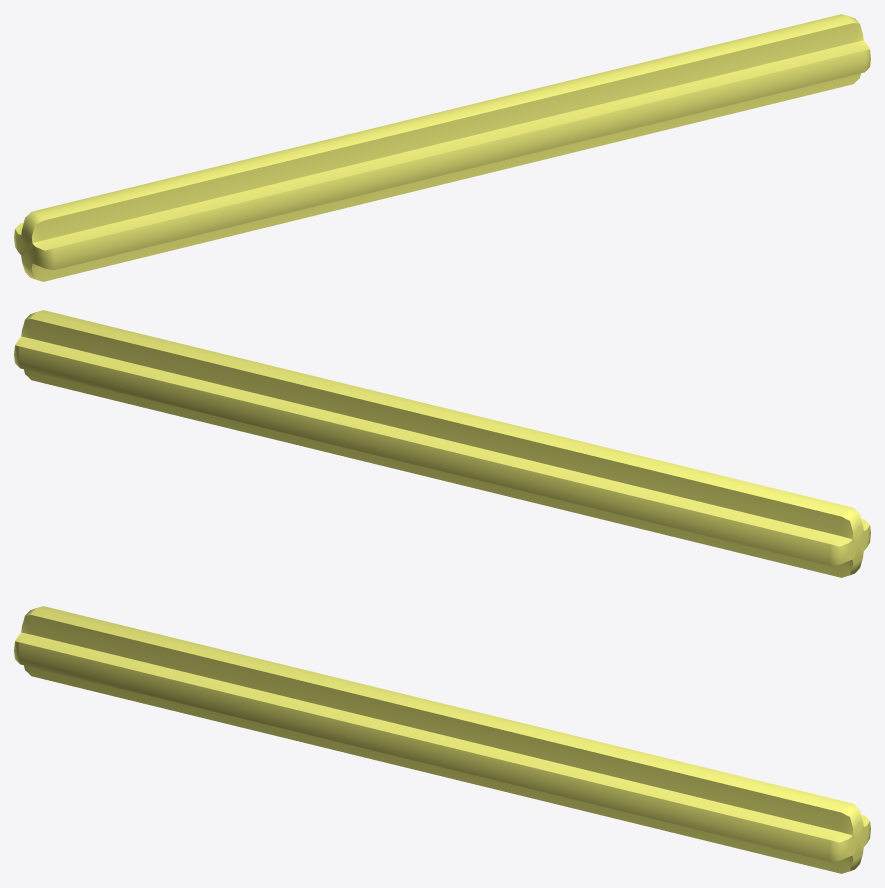
The picture shows the model from 3 angles, top to bottom: view 1: azimuth 30°, elevation 25°; view 2: azimuth 150°, elevation 25°; view 3: azimuth 330°, elevation 25°; orthographic projection.
Parts seen in each view (by area): view 1: 3707.dat; view 2: 3707.dat; view 3: 3707.dat.
Boxes of the visible parts, <box> form: 3707.dat: <box>14,14,870,281</box>; 3707.dat: <box>14,310,870,577</box>; 3707.dat: <box>14,606,870,873</box>.
Bounding box in the file's own units: 0.0636 × 0.0048 × 0.0048.
